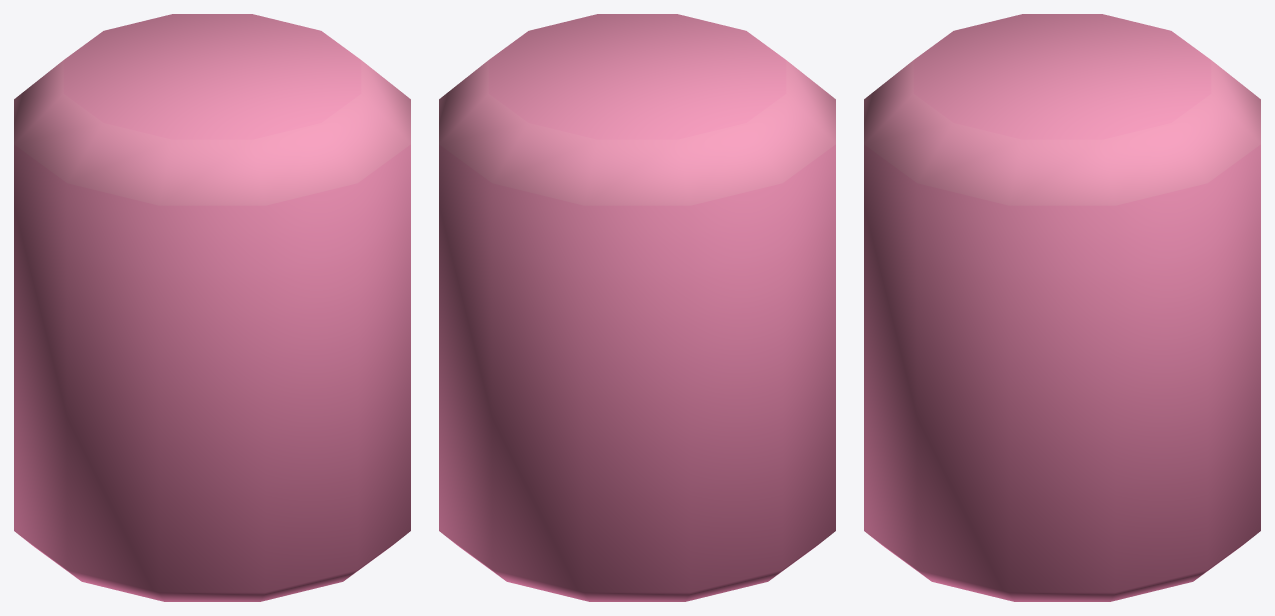
Rendered from tt_stumps.glb.
3 views of the same model, side by side, from view 1: azimuth 30°, elevation 25°; view 2: azimuth 150°, elevation 25°; view 3: azimuth 270°, elevation 25° (orthographic).
Visible parts, largest first — view 1: stepping_stumps_A_pink; view 2: stepping_stumps_A_pink; view 3: stepping_stumps_A_pink.
Part boxes in pixels (x1=…): stepping_stumps_A_pink: x1=14, y1=14, x2=410, y2=601; stepping_stumps_A_pink: x1=439, y1=14, x2=835, y2=601; stepping_stumps_A_pink: x1=864, y1=14, x2=1260, y2=601.
Size of the model in its own units: 0.4 by 0.5 by 0.4.
Materials: 1 (1 with a texture image).
